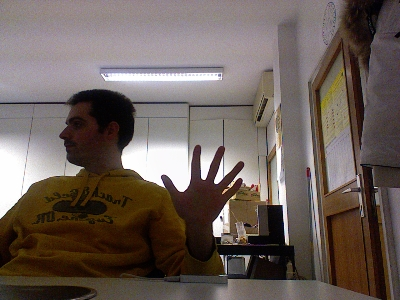布: (159, 143, 245, 225)
